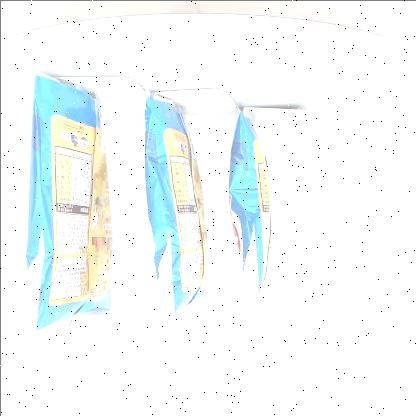Others: (12, 62, 312, 348)
